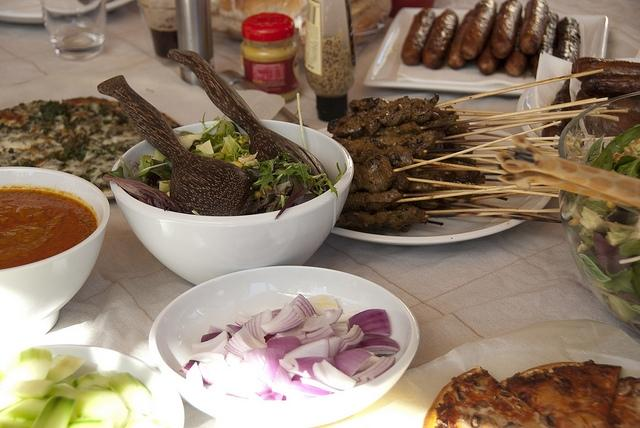onion: (242, 347, 284, 388), (279, 338, 330, 370), (259, 302, 303, 335), (313, 359, 357, 390), (348, 310, 391, 338), (334, 348, 374, 377), (292, 356, 336, 380), (191, 330, 229, 356), (286, 380, 332, 401), (302, 308, 342, 332), (356, 334, 399, 355), (198, 357, 230, 385), (218, 382, 264, 401), (289, 294, 316, 322), (360, 358, 390, 382), (300, 377, 344, 393), (248, 376, 276, 400), (272, 366, 292, 398), (338, 326, 362, 350), (186, 361, 203, 388), (228, 340, 245, 354)
